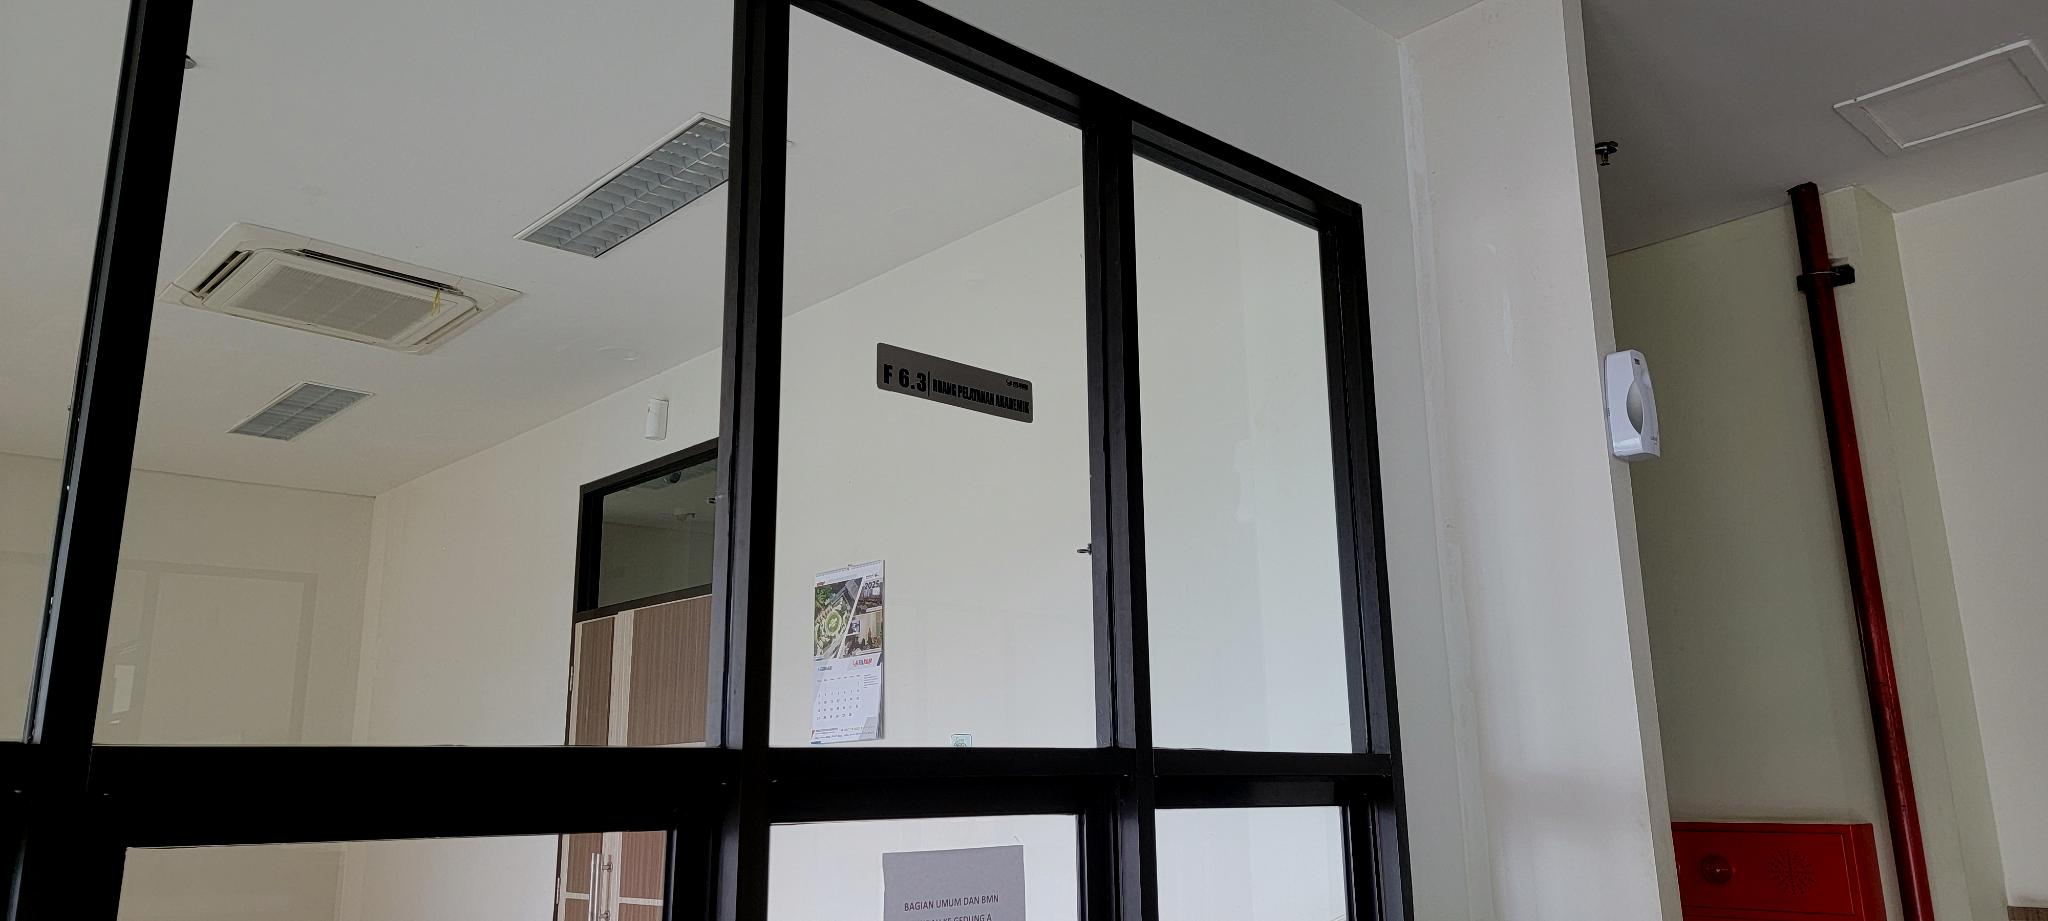plate: (876, 342, 1033, 425)
